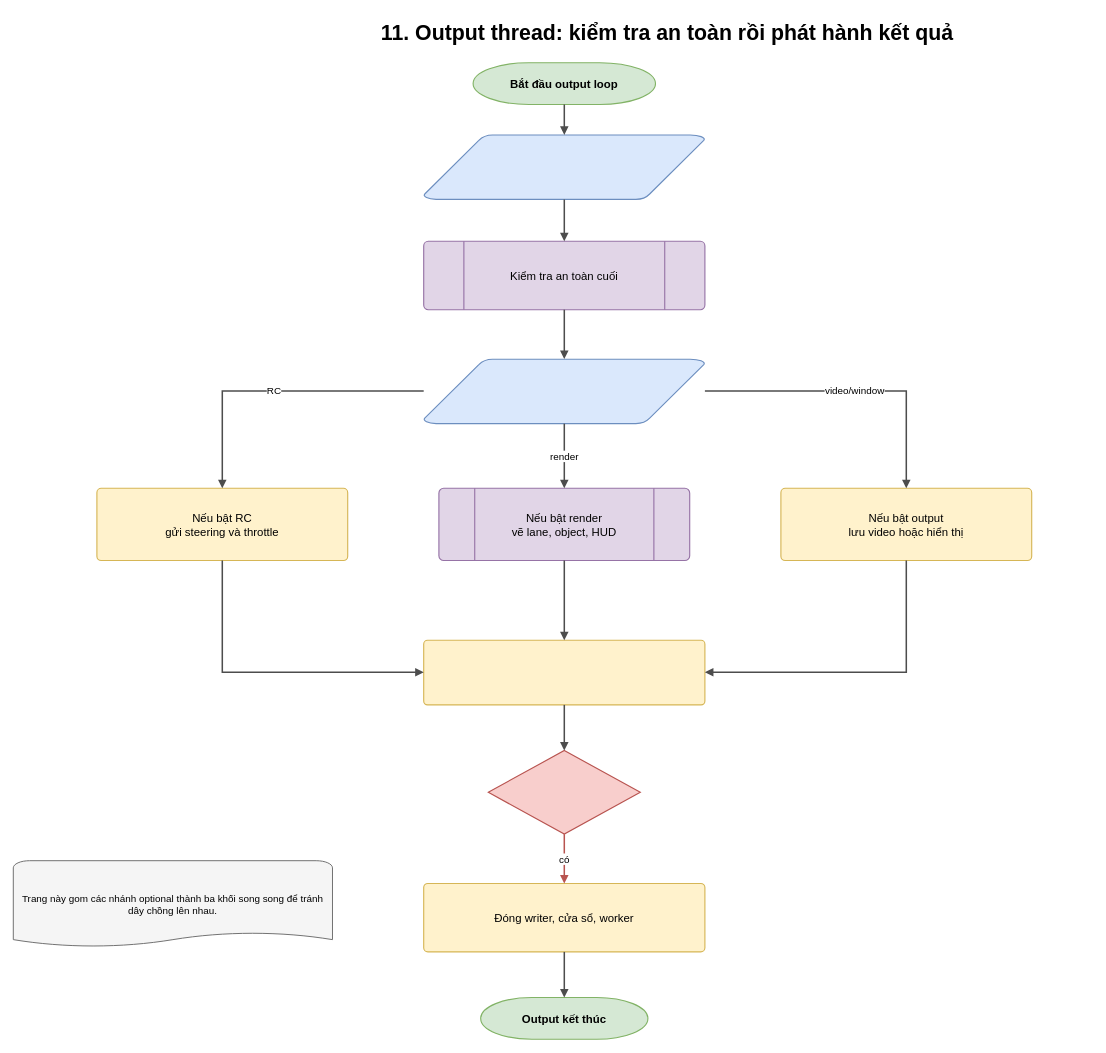
Some shapes in this 1106 by 1053 pixel diagram are drawn without their labels. Here are the shapes that lost their labels. From the top down, the centre of each, then its label:
(564,167): Nhận behavior packet mới nhất
(564,391): Tạo lệnh an toàn
(564,672): Cập nhật FPS và trạng thái
(564,792): Có yêu cầu dừng?
